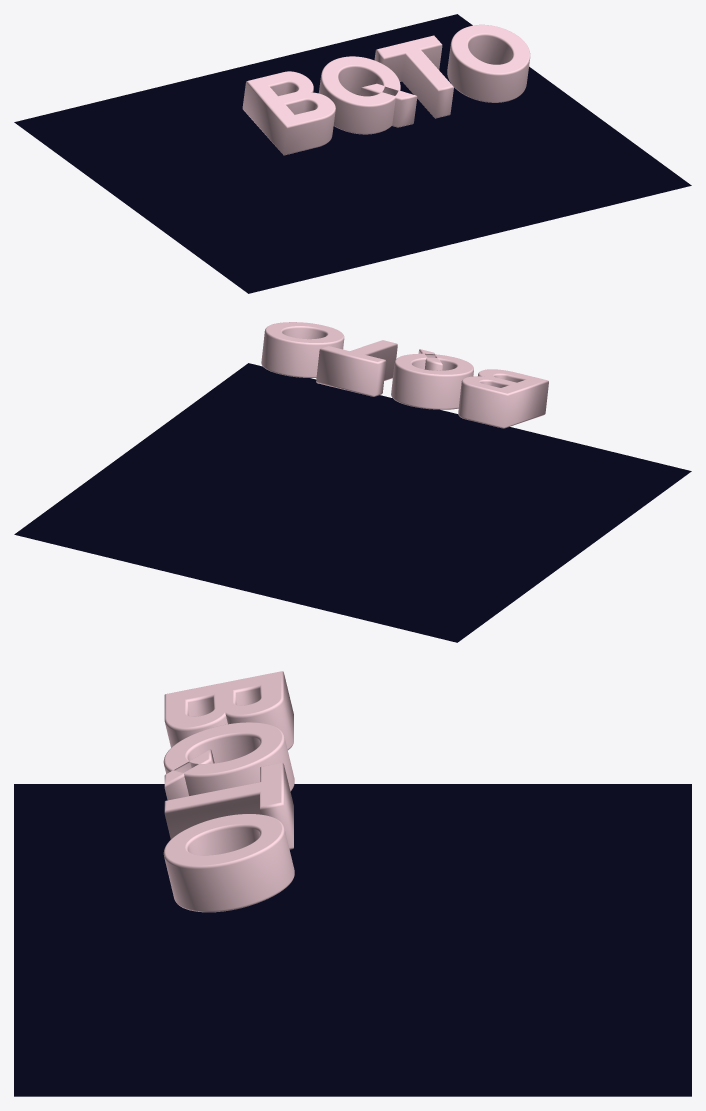
The model's file is bqto1.obj.
3 views of the same model, one above another, from view 1: azimuth 30°, elevation 25°; view 2: azimuth 150°, elevation 25°; view 3: azimuth 270°, elevation 25° (orthographic). The views are drawn at different scales.
Parts seen in each view (by area): view 1: Plane, Text.001_Text.003; view 2: Plane, Text.001_Text.003; view 3: Plane, Text.001_Text.003.
Boxes of the visible parts, x1,y1,x2,y2 form: Plane: [14, 14, 691, 293]; Text.001_Text.003: [242, 24, 530, 155]; Plane: [14, 363, 691, 642]; Text.001_Text.003: [261, 322, 548, 428]; Plane: [14, 784, 691, 1096]; Text.001_Text.003: [163, 671, 294, 912].
Bounding box in the file's own units: 1.9 × 0.5024 × 1.74.
